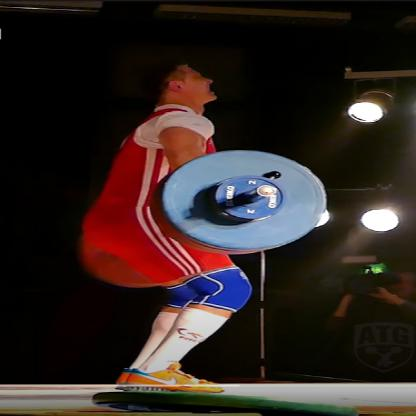Barbell: (147, 141, 340, 256)
